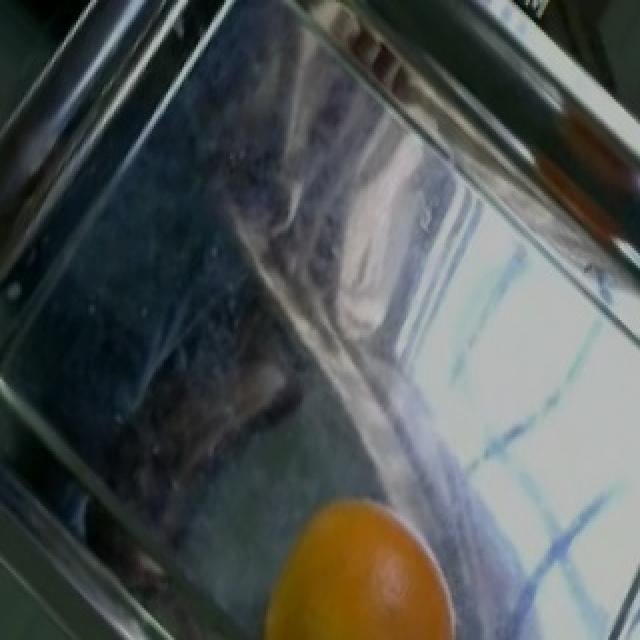Fruit: (248, 486, 472, 640)
